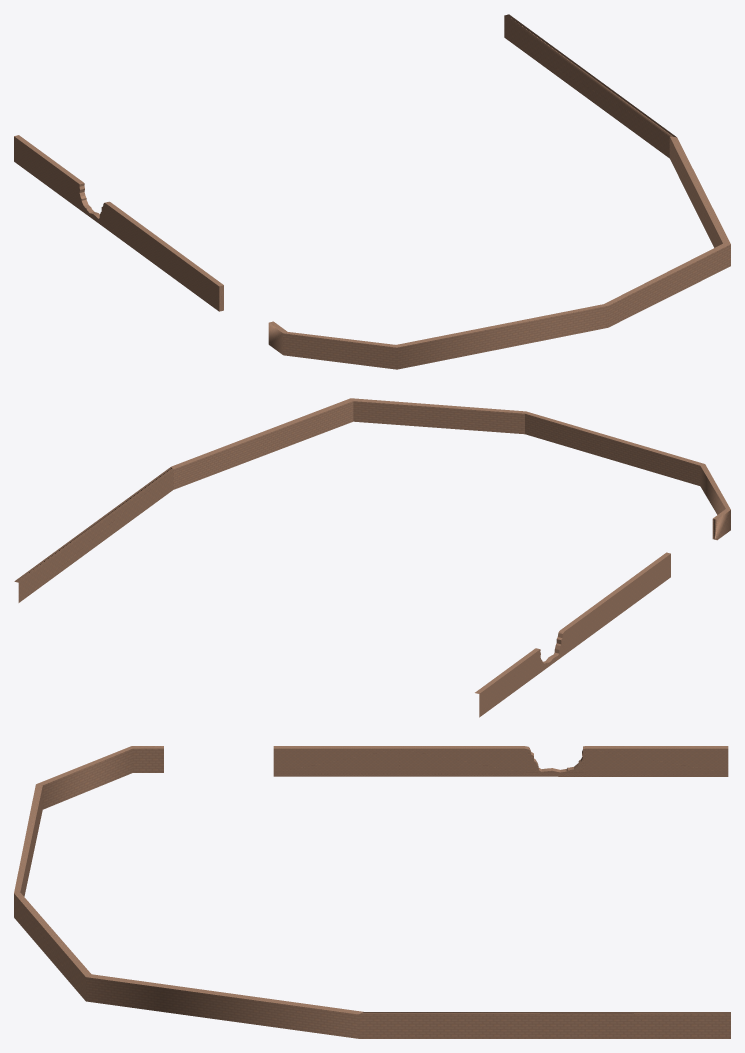
The model's file is kd_stage_1366d7_2_2_bounded.glb.
3 renders of one model, top to bottom at view 1: azimuth 30°, elevation 25°; view 2: azimuth 150°, elevation 25°; view 3: azimuth 270°, elevation 25°, orthographic. The views are drawn at different scales.
Visible parts, largest first — view 1: kd_stage_1366d7_2_2_bounded; view 2: kd_stage_1366d7_2_2_bounded; view 3: kd_stage_1366d7_2_2_bounded.
Part boxes in pixels (<box>): kd_stage_1366d7_2_2_bounded: <box>14,14,730,369</box>; kd_stage_1366d7_2_2_bounded: <box>14,398,730,717</box>; kd_stage_1366d7_2_2_bounded: <box>14,746,730,1038</box>.
Size of the model in its own units: 62.38 by 3.05 by 70.42.
Materials: 1 (1 with a texture image).
